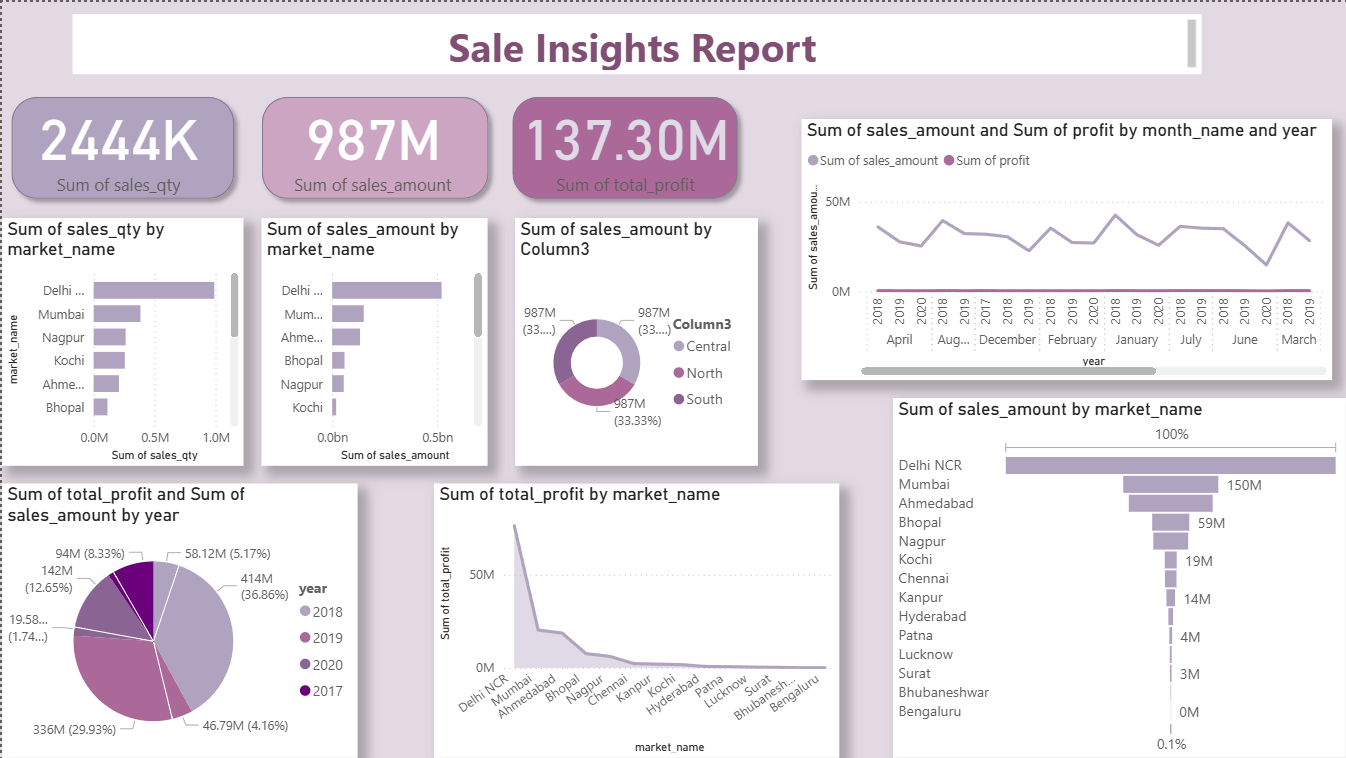

The dashboard page shown, as its layout file describes it:
{"tool":"powerbi","page":{"name":"Page 1","canvas":[1280,720],"ordinal":0},"visuals":[{"type":"barChart","fields":{"Category":["transactions_all.market_name"],"Y":["Sum(transactions_all.sales_qty)"]},"box":[0,205,230,236.2],"z":0},{"type":"barChart","fields":{"Category":["transactions_all.market_name"],"Y":["Sum(transactions_all.sales_amount)"]},"box":[247.5,205,215,236.2],"z":1000},{"type":"areaChart","fields":{"Category":["transactions_all.market_name"],"Y":["Sum(transactions_all.total_profit)"]},"box":[411.2,458.8,386.2,261.2],"z":2000},{"type":"lineChart","fields":{"Category":["Date.month_name","Date.year"],"Y":["Sum(transactions_all.sales_amount)","Sum(transactions_all.profit)"]},"box":[761.2,111.2,505,248.8],"z":3000},{"type":"donutChart","fields":{"Category":["Markets.Column3"],"Y":["Sum(transactions.sales_amount)"]},"box":[488.8,205,231.2,236.2],"z":4000},{"type":"funnel","fields":{"Category":["transactions_all.market_name"],"Y":["Sum(transactions_all.sales_amount)"]},"box":[848.8,377.5,431.2,342.5],"z":5000},{"type":"pieChart","fields":{"Category":["transactions_all.year"],"Y":["Sum(transactions_all.total_profit)","Sum(transactions_all.sales_amount)"]},"box":[0,458.8,338.8,261.2],"z":6000},{"type":"textbox","box":[67.5,11.2,1075,57.5],"z":7000},{"type":"shape","box":[0,81.2,230,115],"z":8000},{"type":"shape","box":[238.8,81.2,233.8,115],"z":9000},{"type":"card","fields":{"Values":["Sum(transactions_all.sales_amount)"]},"box":[242.5,81.2,220,107.5],"z":10000},{"type":"shape","box":[477.5,81.2,232.5,115],"z":11000},{"type":"card","fields":{"Values":["Sum(transactions_all.total_profit)"]},"box":[488.8,81.2,210,107.5],"z":12000},{"type":"card","fields":{"Values":["Sum(transactions.sales_qty)"]},"box":[0,81.2,221.2,107.5],"z":13000}]}

Visuals, with their boxes in screenshot pixels (x1, y1, x2, y2), scaled from the page's 1280x720 canvas onto the 1346x758 screenshot:
barChart - transactions_all.market_name x Sum(transactions_all.sales_qty): (x1=0, y1=216, x2=242, y2=464)
barChart - transactions_all.market_name x Sum(transactions_all.sales_amount): (x1=260, y1=216, x2=486, y2=464)
areaChart - transactions_all.market_name x Sum(transactions_all.total_profit): (x1=432, y1=483, x2=839, y2=757)
lineChart - Date.month_name x Date.year: (x1=800, y1=117, x2=1331, y2=379)
donutChart - Markets.Column3 x Sum(transactions.sales_amount): (x1=514, y1=216, x2=757, y2=464)
funnel - transactions_all.market_name x Sum(transactions_all.sales_amount): (x1=893, y1=397, x2=1345, y2=757)
pieChart - transactions_all.year x Sum(transactions_all.total_profit): (x1=0, y1=483, x2=356, y2=757)
textbox: (x1=71, y1=12, x2=1201, y2=72)
shape: (x1=0, y1=85, x2=242, y2=207)
shape: (x1=251, y1=85, x2=497, y2=207)
card - Sum(transactions_all.sales_amount): (x1=255, y1=85, x2=486, y2=199)
shape: (x1=502, y1=85, x2=747, y2=207)
card - Sum(transactions_all.total_profit): (x1=514, y1=85, x2=735, y2=199)
card - Sum(transactions.sales_qty): (x1=0, y1=85, x2=233, y2=199)
